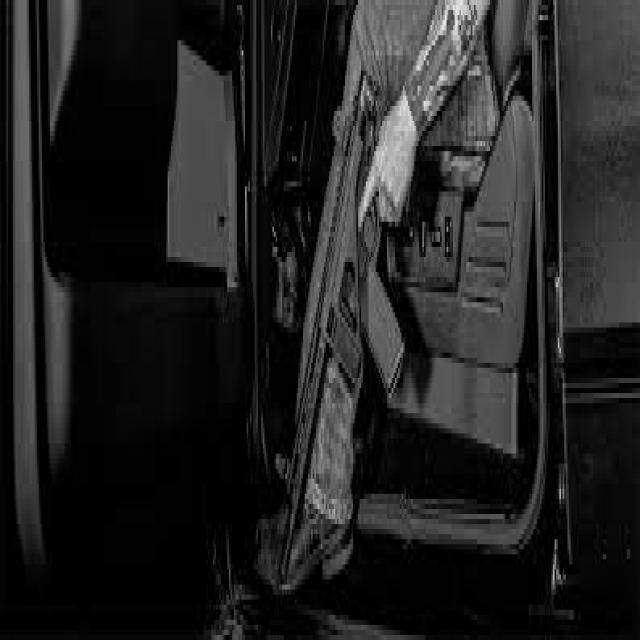semi: (274, 61, 403, 591)
